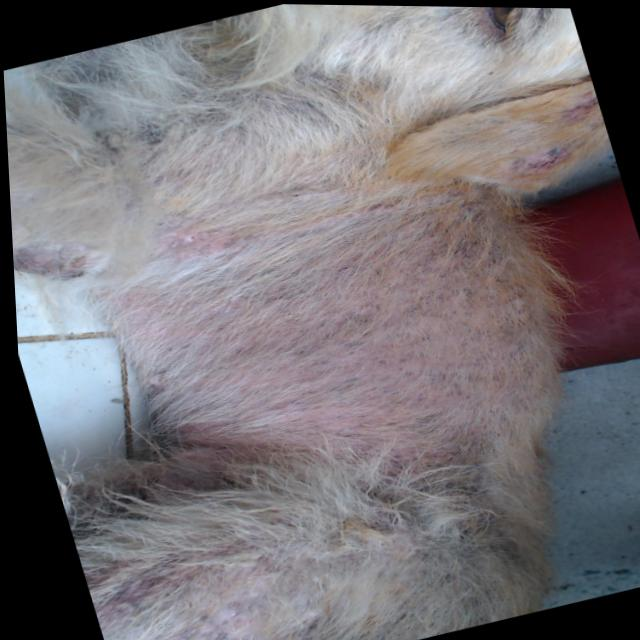demodicosis: (186, 247, 467, 479), (155, 561, 273, 640), (10, 222, 111, 297)
